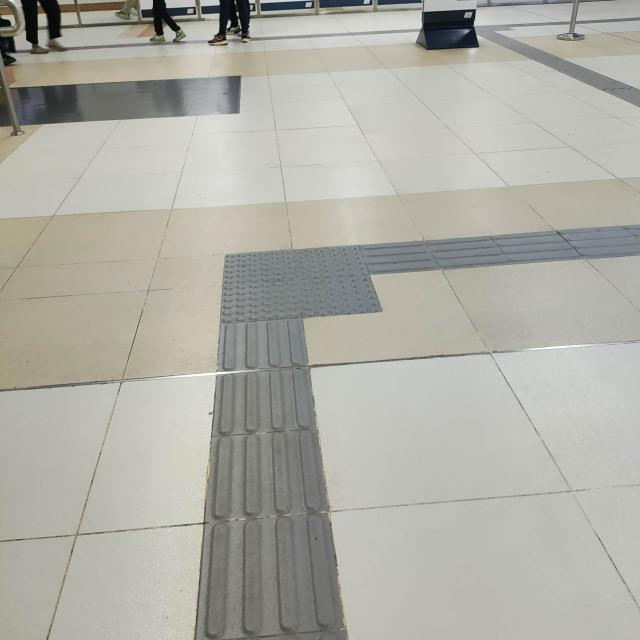kanan: (157, 199, 463, 363)
